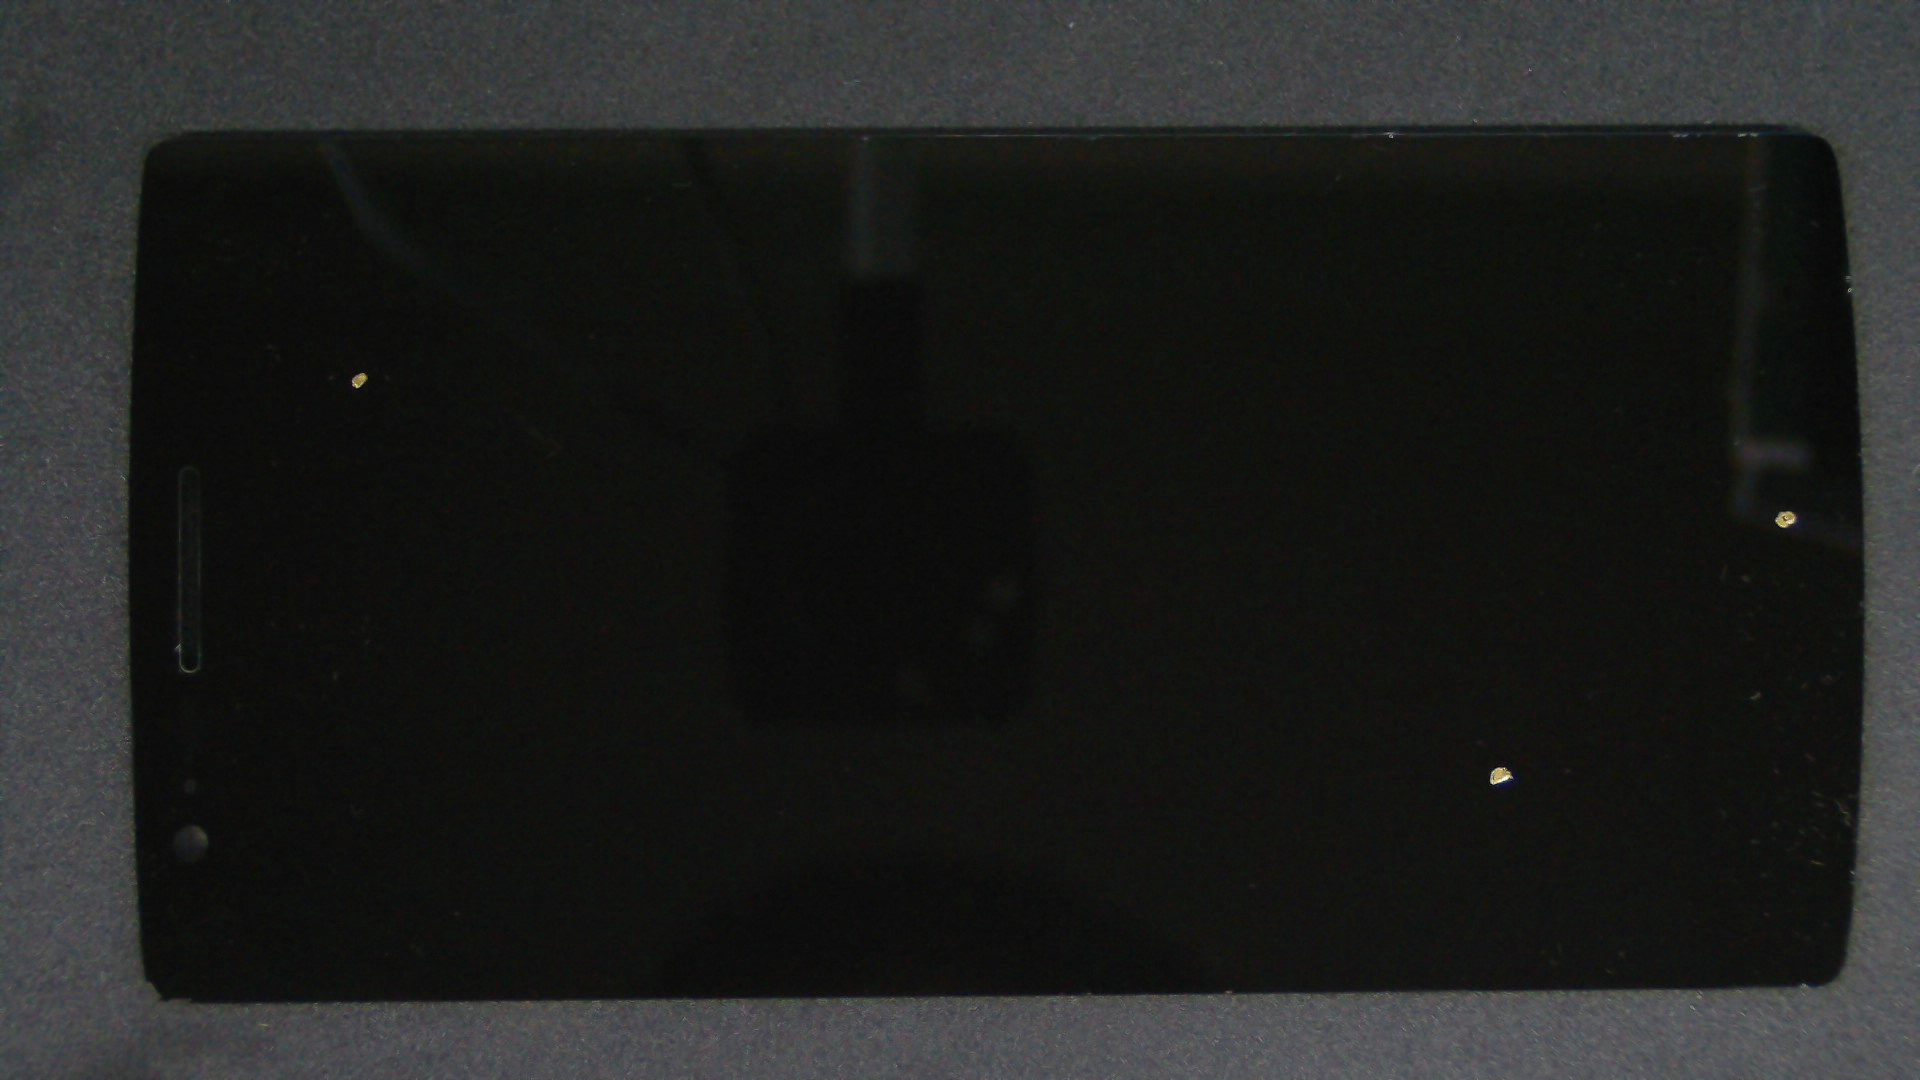oil: (750, 381, 1920, 1080), (895, 255, 1920, 764), (182, 185, 545, 556)
